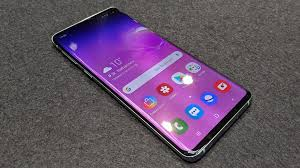Cell Phone: (50, 8, 249, 153)
